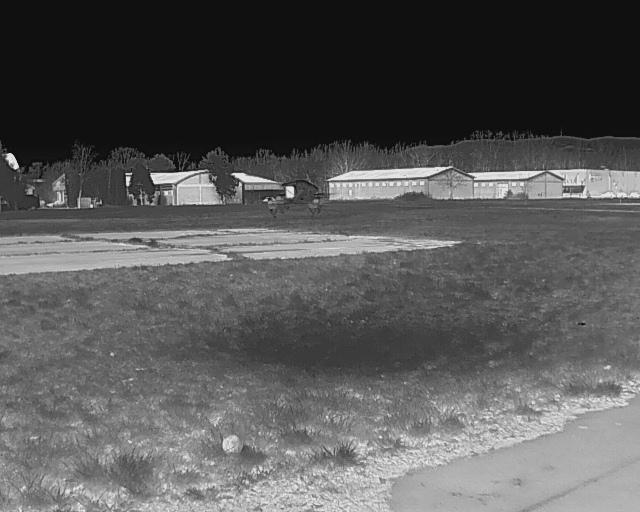drone: (251, 174, 336, 224)
